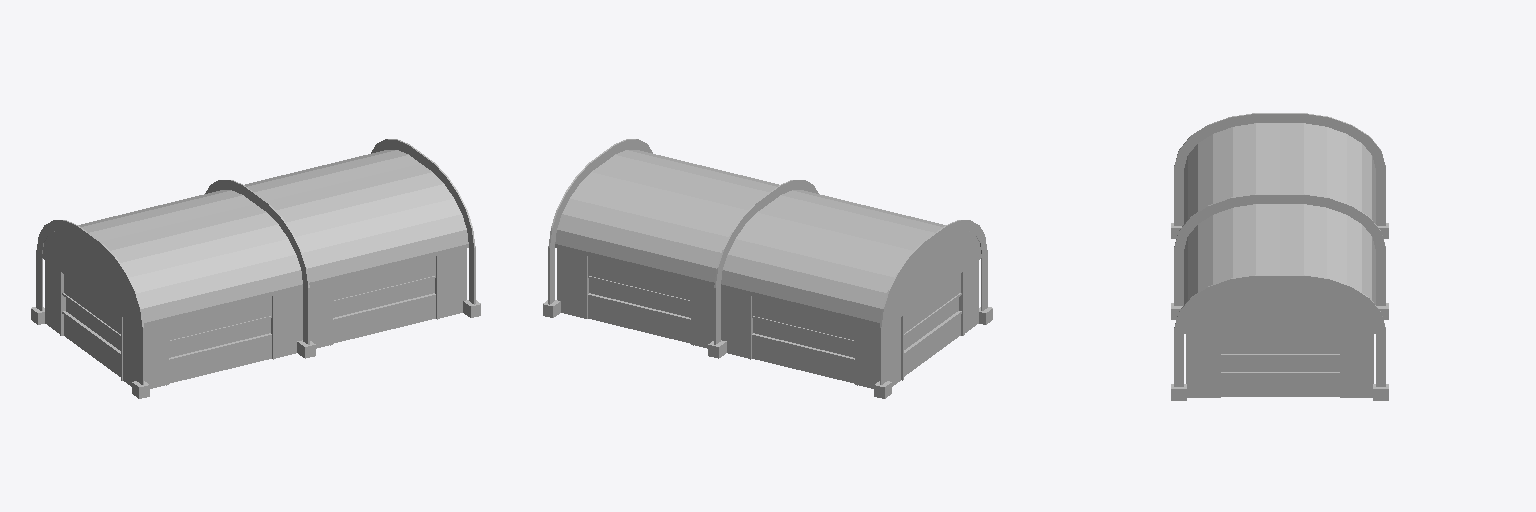
Rendered from Building_8.obj.
3 renders of one model, left to right at view 1: azimuth 30°, elevation 25°; view 2: azimuth 150°, elevation 25°; view 3: azimuth 270°, elevation 25°, orthographic.
Parts seen in each view (by area): view 1: Building_8; view 2: Building_8; view 3: Building_8.
Boxes of the visible parts, box(x1,y1,x2,y2) form: Building_8: box(31, 139, 480, 398); Building_8: box(543, 139, 992, 398); Building_8: box(1171, 113, 1388, 400).
Size of the model in its own units: 30.58 by 10.55 by 16.84.